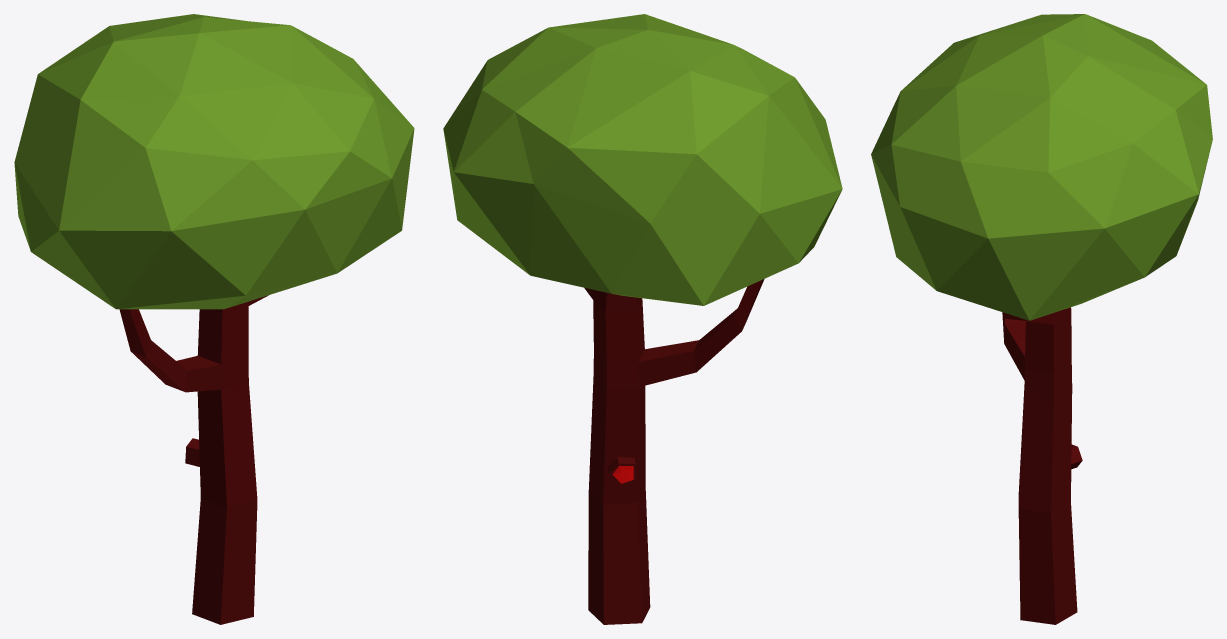
File: tree_2.glb
3 views of the same model, side by side, from view 1: azimuth 30°, elevation 25°; view 2: azimuth 150°, elevation 25°; view 3: azimuth 270°, elevation 25° (orthographic). The views are drawn at different scales.
Visible parts, largest first — view 1: tree_2; view 2: tree_2; view 3: tree_2.
Part boxes in pixels (left/top/right/bottom): tree_2: left=14, top=14, right=414, bottom=624; tree_2: left=443, top=14, right=842, bottom=624; tree_2: left=871, top=14, right=1212, bottom=624.
Size of the model in its own units: 6.34 by 10.03 by 5.5.
1 material, 1 textured.
